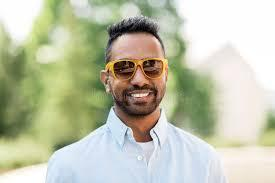sunglasses: (105, 55, 167, 83)
